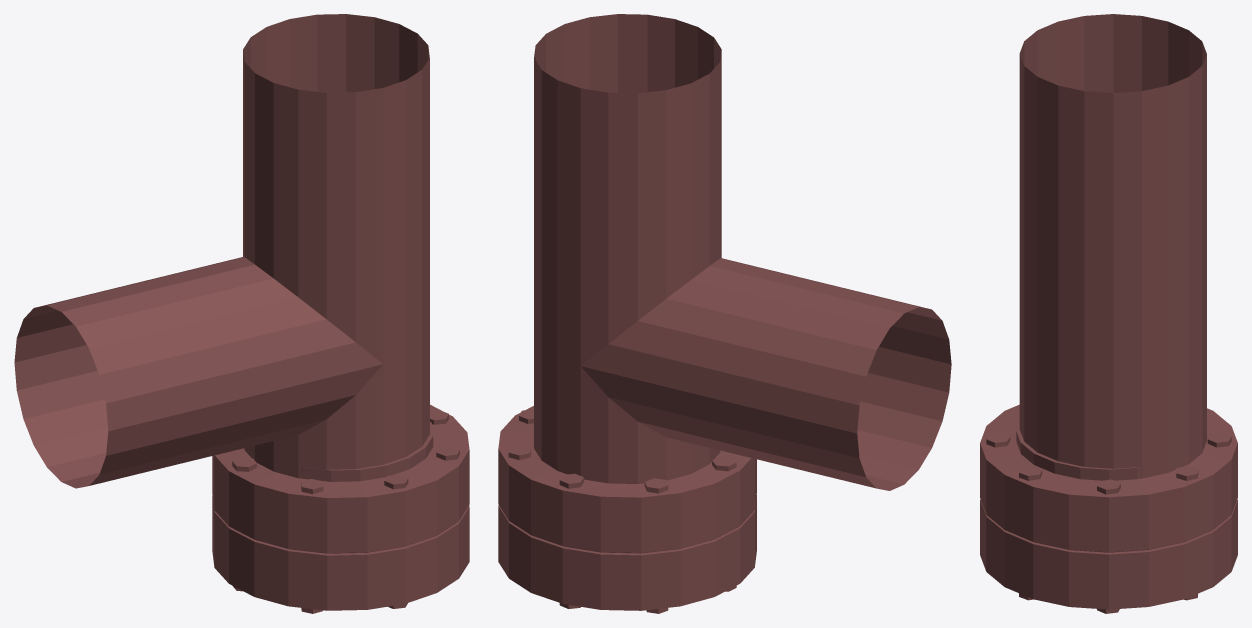
The model's file is TPipe.fbx.
3 views of the same model, side by side, from view 1: azimuth 30°, elevation 25°; view 2: azimuth 150°, elevation 25°; view 3: azimuth 270°, elevation 25° (orthographic).
Visible parts, largest first — view 1: TPipe; view 2: TPipe; view 3: TPipe.
Part boxes in pixels (x1,y1,x2,y2): TPipe: (14,14,469,613); TPipe: (498,14,951,613); TPipe: (980,14,1237,613).
Size of the model in its own units: 14.89 by 18.7 by 8.57.
